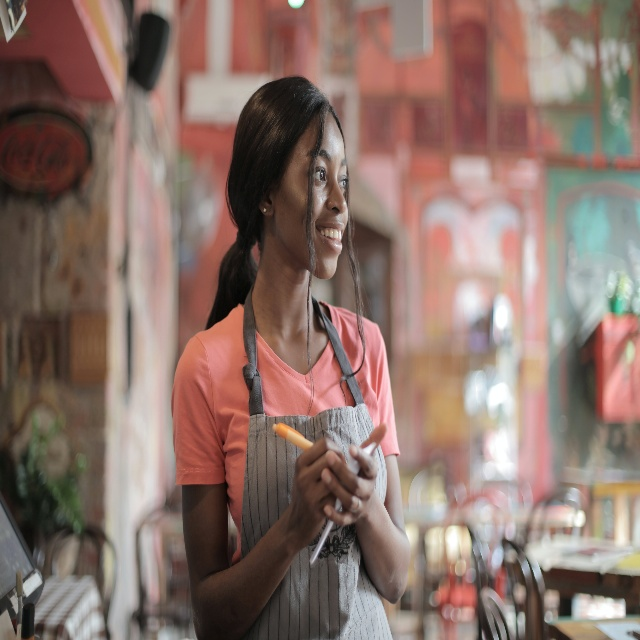Sin_guantes: (320, 422, 388, 527), (291, 438, 346, 548)
